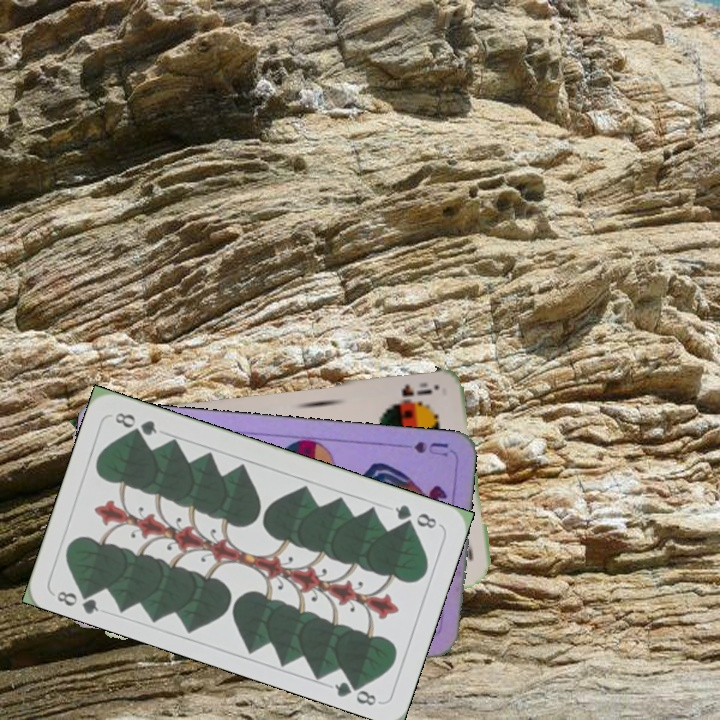G8: (52, 583, 102, 616), (390, 500, 443, 531)
SO: (397, 377, 435, 400)
SU: (391, 438, 451, 459)
